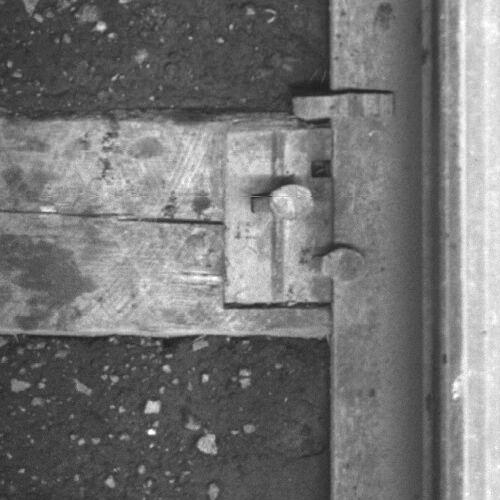crutch: (292, 88, 399, 119)
do: (225, 129, 366, 302)
hole_do: (305, 150, 342, 185)
nail_pulled: (244, 179, 314, 223)
rail: (445, 1, 500, 500)
tie_wood: (1, 117, 333, 331)
wood_crack: (1, 205, 226, 232)
